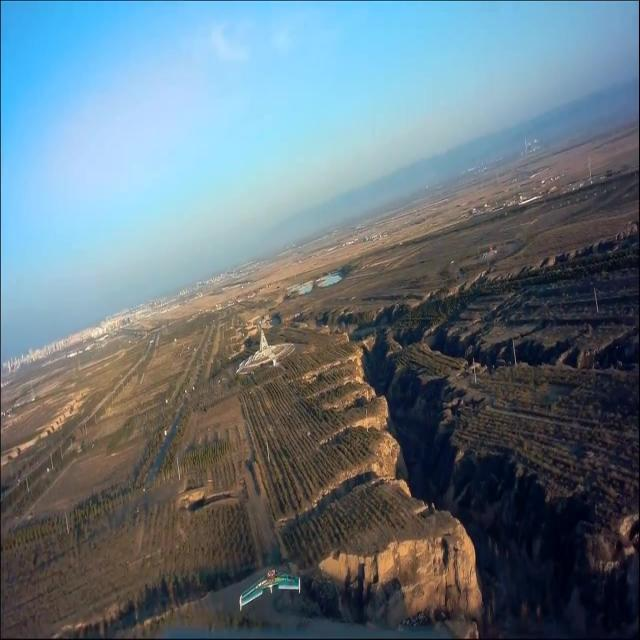iha: (240, 568, 301, 611)
